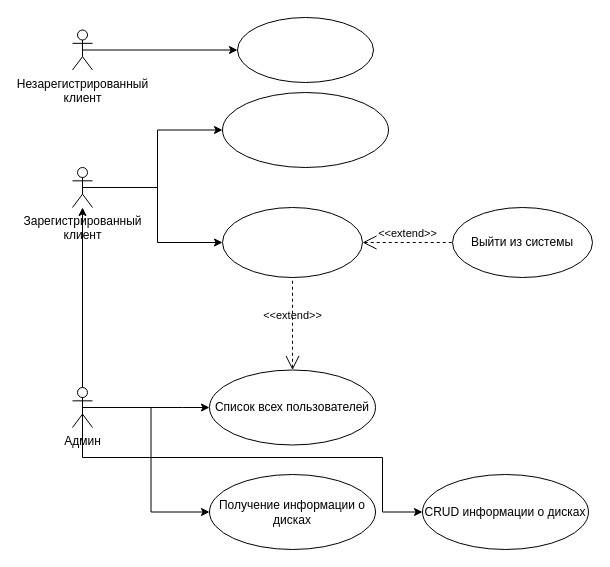
Image size: 610x567. Some labels were removed from this diagram. Each missing label, with the box of its shape:
Войти в систему: (222, 206, 362, 278)
Получение информации о дисках(ограничено): (222, 92, 388, 168)
Создание аккаунта: (236, 16, 374, 82)
